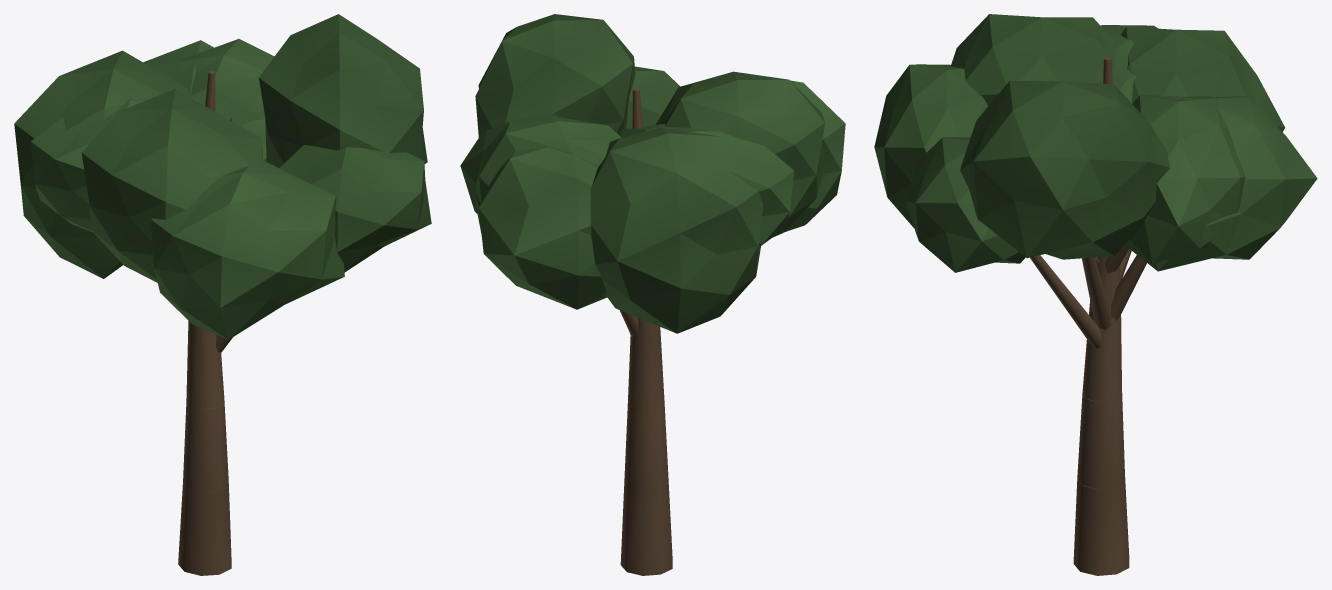
The model's file is frondosa-variada.glb.
3 views of the same model, side by side, from view 1: azimuth 30°, elevation 25°; view 2: azimuth 150°, elevation 25°; view 3: azimuth 270°, elevation 25° (orthographic). The views are drawn at different scales.
Parts seen in each view (by area): view 1: Arvore_frondosa_18; view 2: Arvore_frondosa_18; view 3: Arvore_frondosa_18.
Part boxes in pixels (left/top/right/bottom): Arvore_frondosa_18: left=14, top=14, right=431, bottom=575; Arvore_frondosa_18: left=460, top=14, right=845, bottom=575; Arvore_frondosa_18: left=874, top=14, right=1317, bottom=575.
Size of the model in its own units: 6.12 by 8.62 by 6.4.
